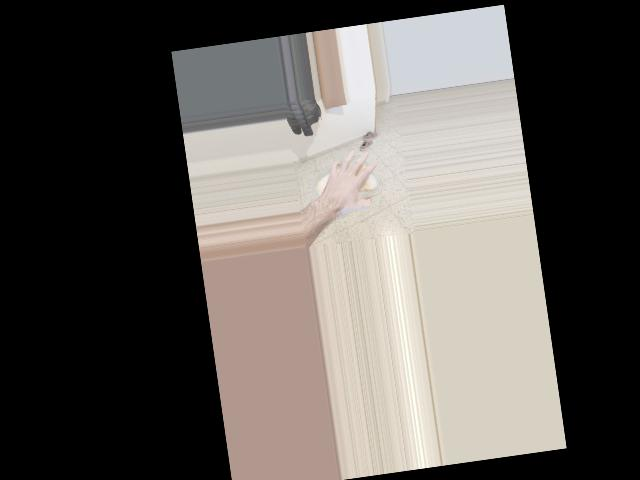cheese: (310, 148, 384, 221)
